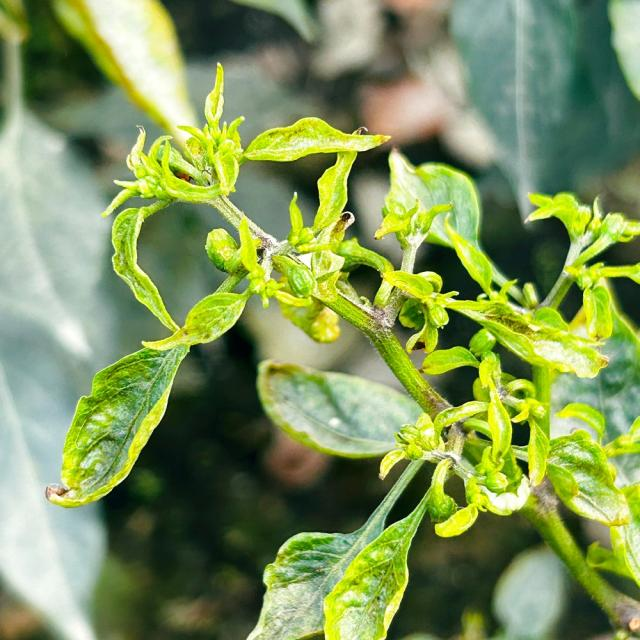Chilli_Leaf_Curl: (46, 60, 638, 638), (45, 60, 392, 508), (44, 341, 190, 508), (255, 358, 425, 460)
